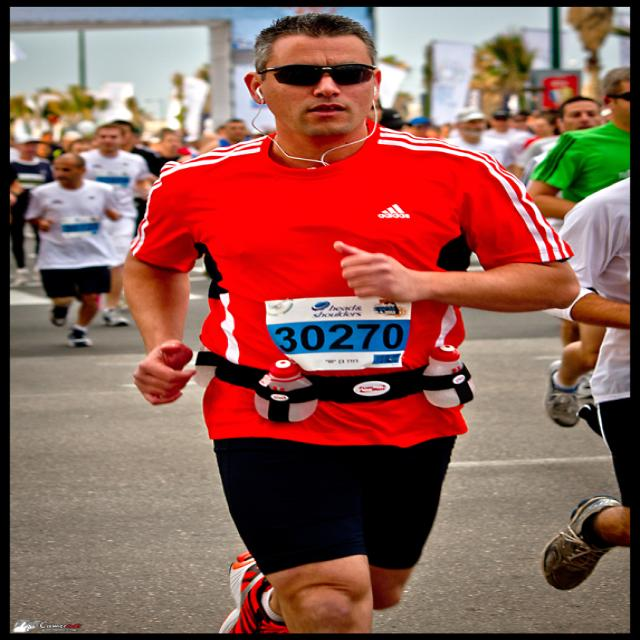Bib: (274, 320, 398, 356)
